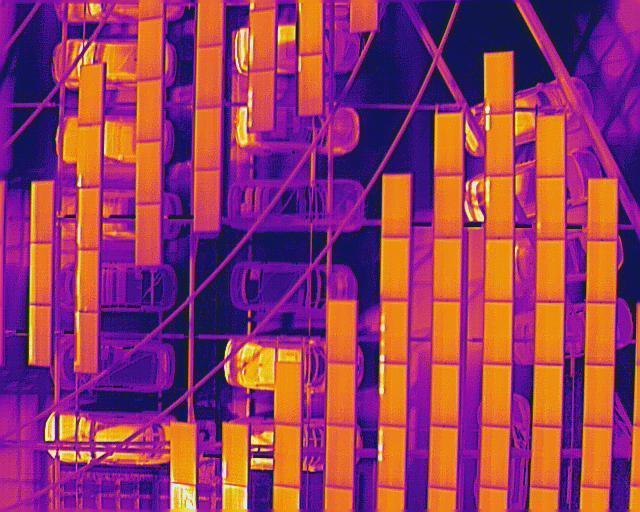Cell: (483, 52, 514, 114)
No-Anomaly: (587, 177, 618, 242), (484, 239, 513, 303), (587, 240, 616, 304), (585, 302, 614, 366), (536, 178, 565, 241), (327, 300, 356, 363), (431, 301, 460, 364), (585, 366, 614, 429), (536, 239, 564, 304), (326, 423, 353, 490), (435, 114, 464, 176), (480, 425, 507, 491), (433, 238, 461, 301), (531, 426, 559, 489), (583, 427, 611, 490), (194, 107, 221, 172), (484, 301, 511, 366), (327, 362, 354, 427), (535, 363, 562, 428), (274, 425, 301, 490), (429, 425, 456, 490), (195, 45, 222, 109), (536, 115, 563, 178), (382, 175, 409, 238), (381, 238, 408, 301), (536, 303, 563, 366), (275, 362, 302, 425), (483, 364, 510, 427), (431, 364, 458, 427), (171, 421, 196, 487), (194, 168, 219, 232), (137, 79, 162, 142), (136, 141, 161, 204), (436, 175, 461, 238), (135, 204, 160, 267), (138, 18, 163, 81), (30, 180, 53, 244), (28, 305, 52, 366), (76, 250, 99, 311), (29, 245, 52, 305), (80, 65, 102, 126), (77, 189, 99, 249), (76, 313, 98, 372), (298, 0, 322, 54)
Unclassified: (482, 113, 513, 175), (485, 176, 514, 238), (379, 362, 406, 427), (380, 302, 407, 364), (249, 9, 276, 71), (379, 426, 405, 490), (222, 422, 248, 485), (248, 70, 274, 131), (296, 54, 321, 117), (77, 126, 100, 189)
